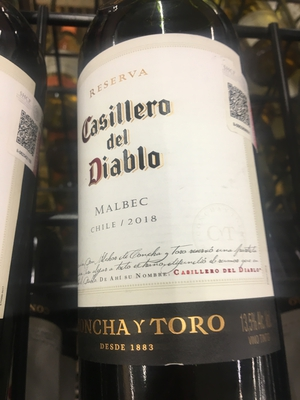casillero del diablo malbec: (63, 14, 300, 379)
